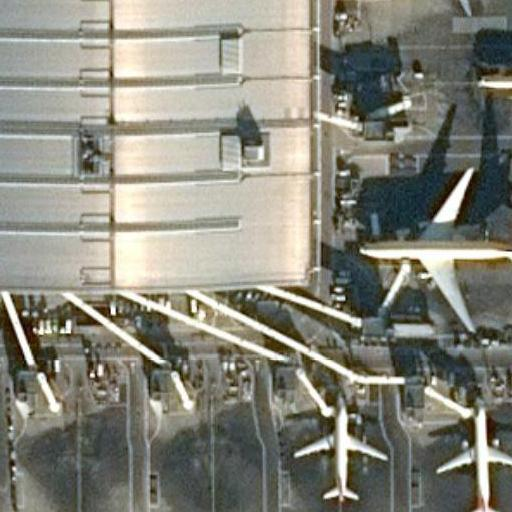Aircraft: (354, 163, 512, 331), (292, 396, 389, 501), (434, 402, 512, 512), (475, 32, 512, 130), (418, 0, 508, 16)
